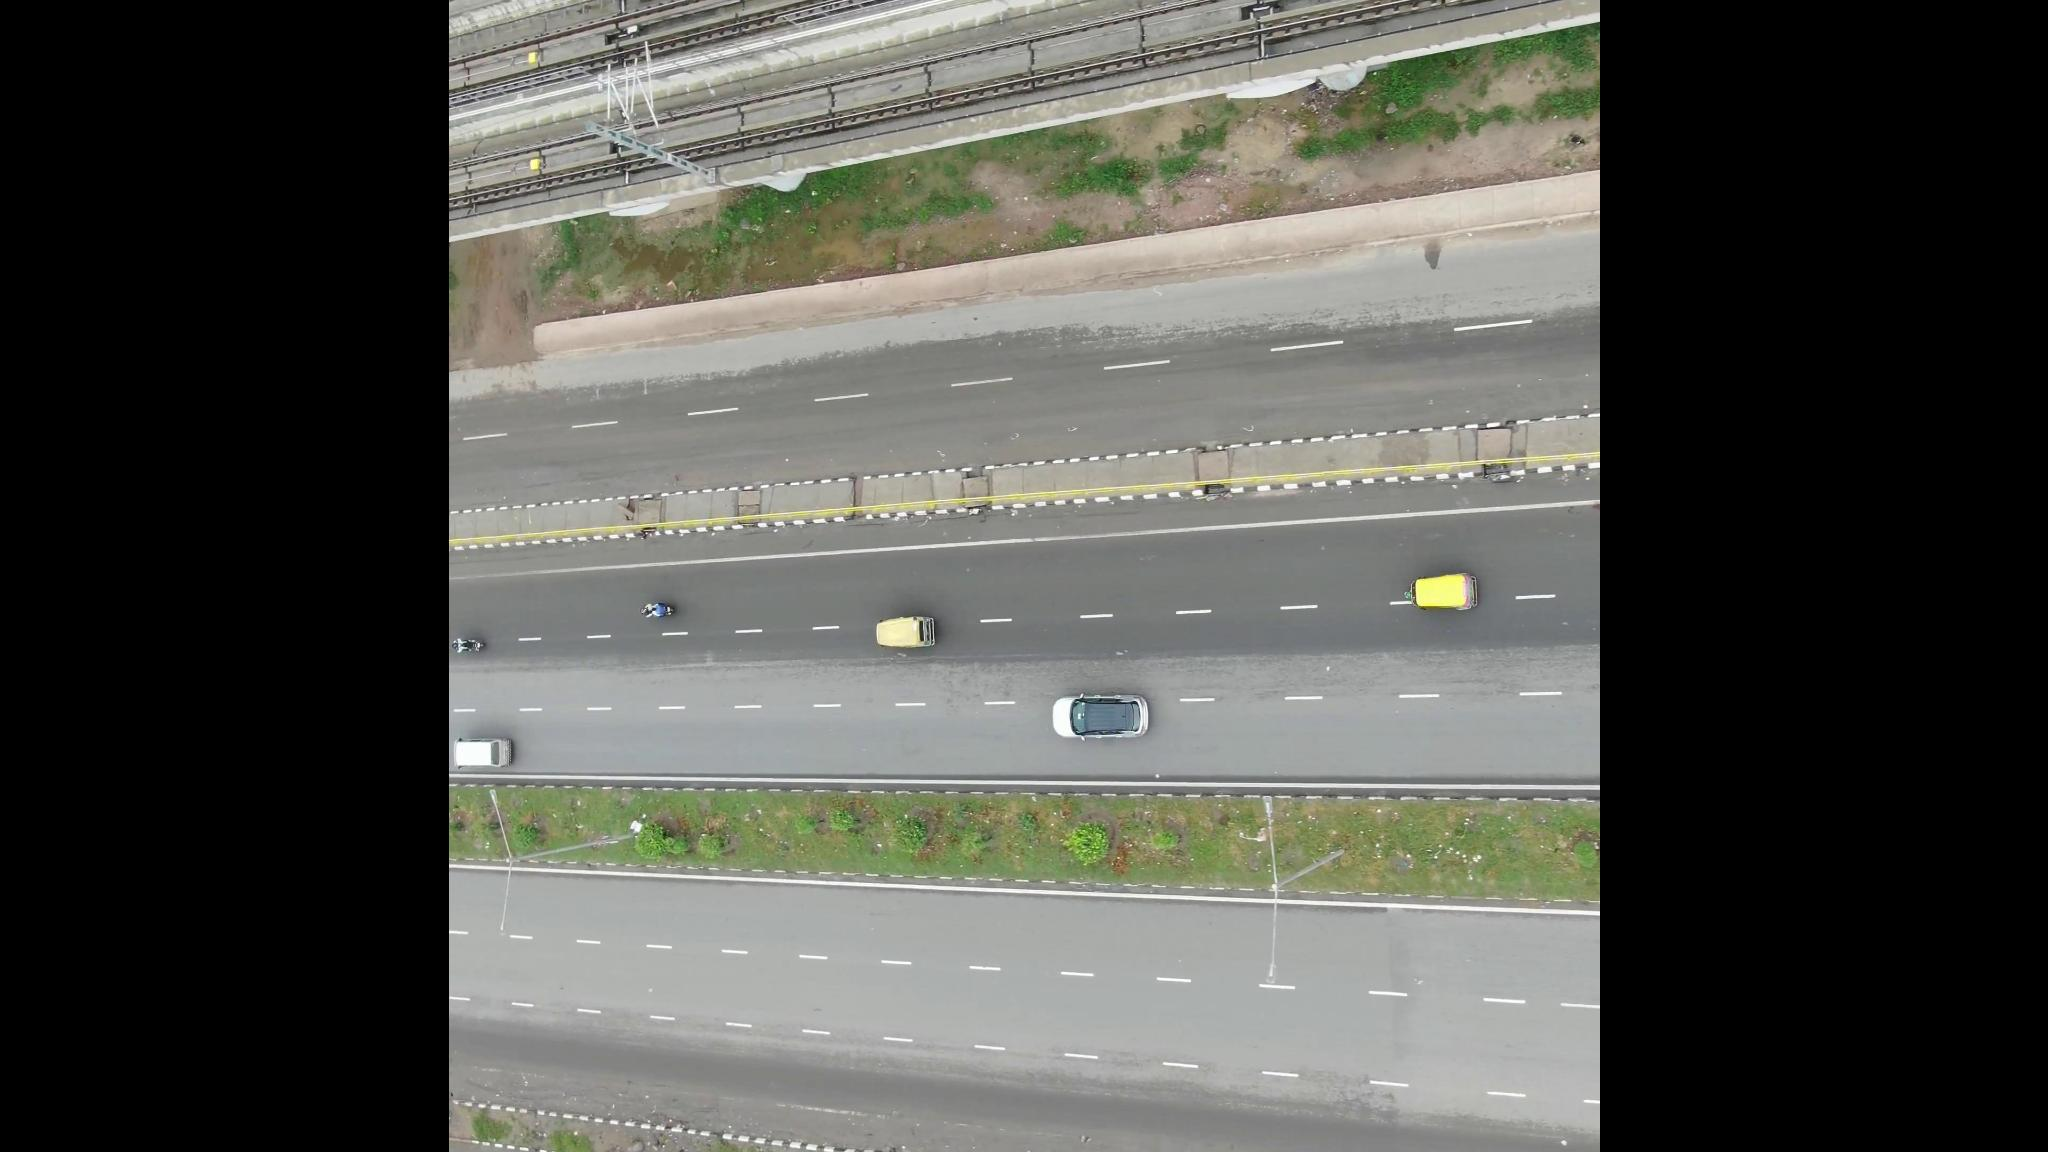Muddy_road: (567, 1058, 741, 1131), (754, 1093, 926, 1152), (954, 1120, 1153, 1152)
Ravelling: (1173, 1062, 1385, 1128), (1317, 648, 1589, 693), (665, 648, 888, 692), (1108, 655, 1305, 703), (911, 661, 1106, 698)
